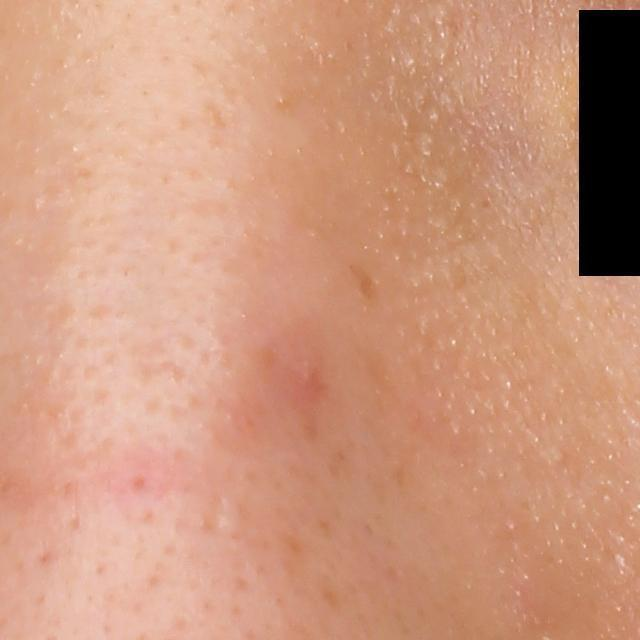comedo: (551, 447, 571, 464)
melasma: (346, 261, 384, 307)
